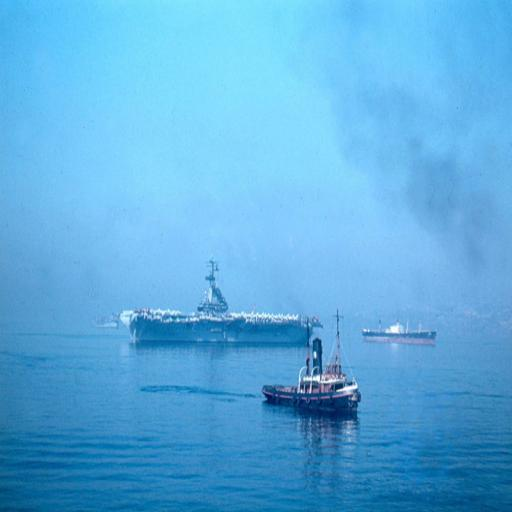Portanaves: (109, 251, 324, 361)
